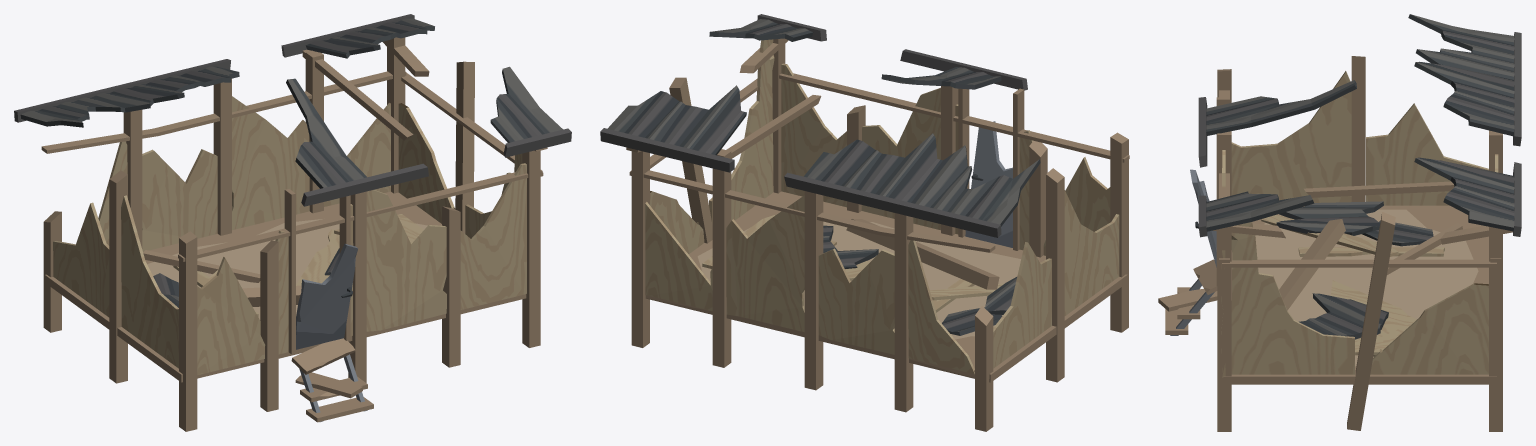
File: SM_Bld_Plywood_Shed_Destroyed_01.glb
The picture shows the model from 3 angles, left to right: view 1: azimuth 30°, elevation 25°; view 2: azimuth 150°, elevation 25°; view 3: azimuth 270°, elevation 25°; orthographic projection.
Visible parts, largest first — view 1: SM_Bld_Plywood_Shed_Destroyed_01; view 2: SM_Bld_Plywood_Shed_Destroyed_01; view 3: SM_Bld_Plywood_Shed_Destroyed_01.
Part boxes in pixels (x1=…): SM_Bld_Plywood_Shed_Destroyed_01: x1=14, y1=14, x2=571, y2=431; SM_Bld_Plywood_Shed_Destroyed_01: x1=600, y1=14, x2=1129, y2=431; SM_Bld_Plywood_Shed_Destroyed_01: x1=1158, y1=14, x2=1521, y2=431.
Size of the model in its own units: 8.07 by 5.08 by 6.38.
Materials: 1 (1 with a texture image).
